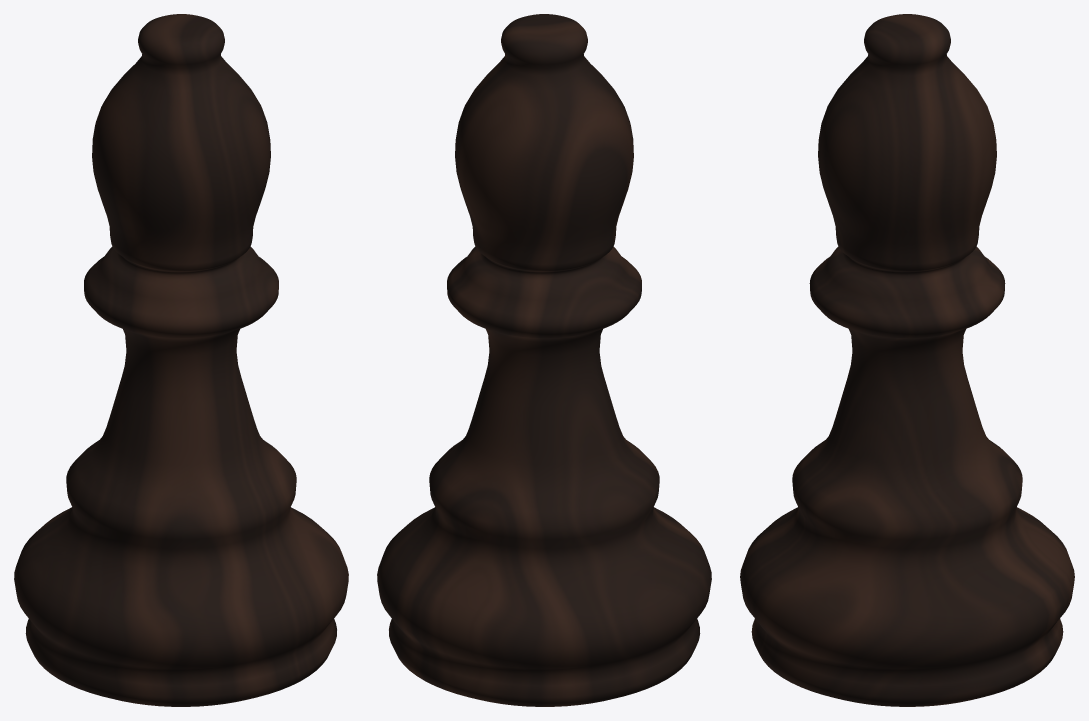
File: blackBishop.fbx
3 renders of one model, left to right at view 1: azimuth 30°, elevation 25°; view 2: azimuth 150°, elevation 25°; view 3: azimuth 270°, elevation 25°, orthographic.
Parts seen in each view (by area): view 1: blackbishop; view 2: blackbishop; view 3: blackbishop.
Part boxes in pixels (box(x1,y1,x2,y2)): blackbishop: box(14, 14, 348, 706); blackbishop: box(377, 14, 711, 706); blackbishop: box(740, 14, 1074, 706).
Bounding box in the file's own units: 72.54 × 150 × 72.54.
Materials: 1 (1 with a texture image).
